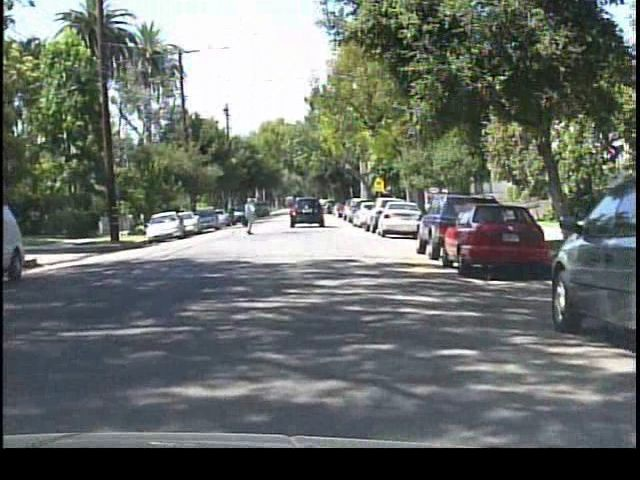person: (238, 186, 261, 231)
